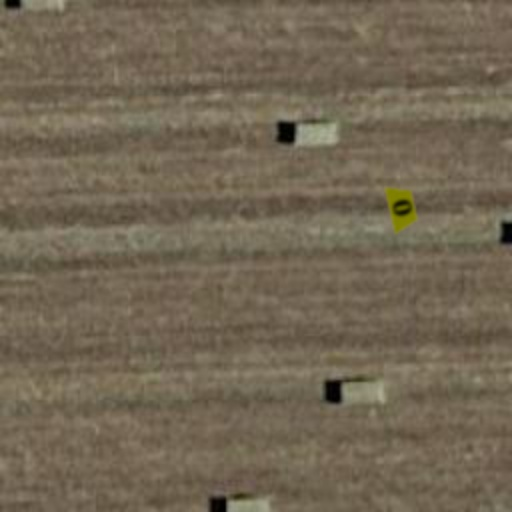trapezoid: (372, 178, 432, 238)
